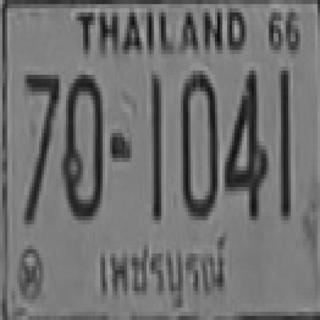N00: (61, 71, 102, 216), (179, 71, 216, 216)
N01: (278, 66, 288, 216), (150, 73, 160, 218), (151, 73, 161, 218)
N04: (222, 66, 266, 216)
N07: (22, 71, 59, 220), (23, 71, 60, 191)
P43: (92, 228, 232, 310)
